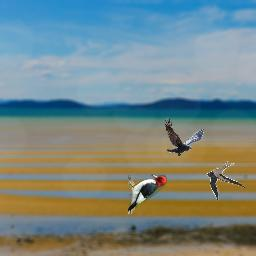Crow: (164, 117, 204, 156)
Swallow: (206, 161, 245, 201)
Woodpecker: (128, 174, 167, 214)
